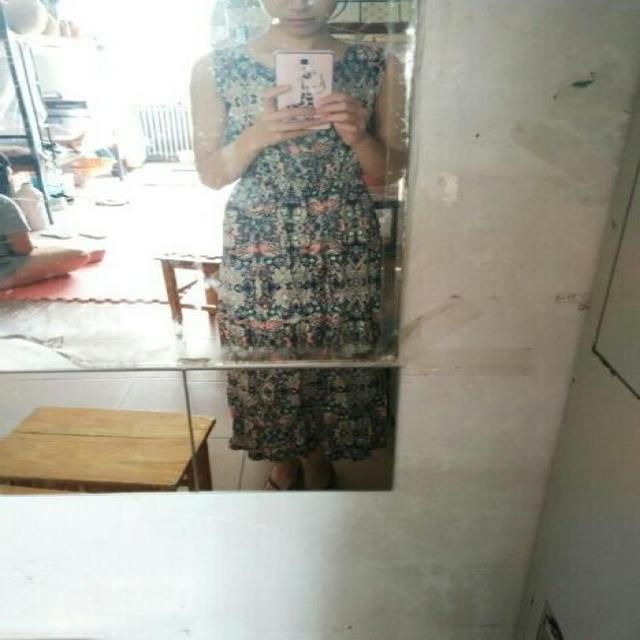vest dress: (212, 44, 397, 463)
